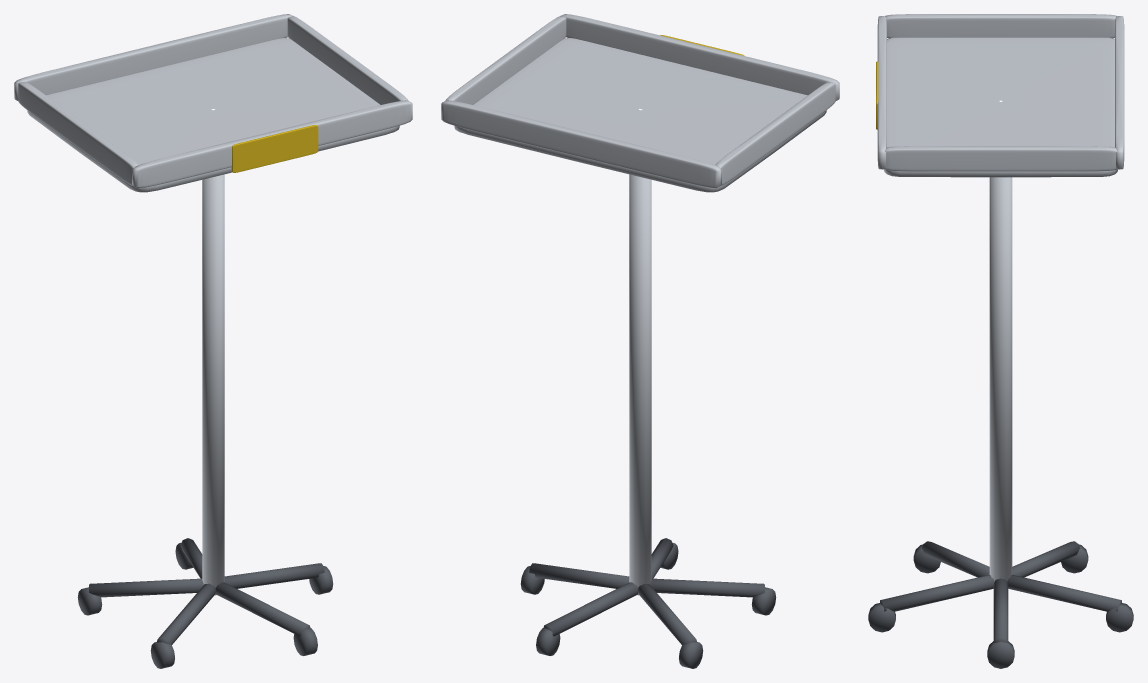
The model's file is delivery_tray.glb.
3 renders of one model, left to right at view 1: azimuth 30°, elevation 25°; view 2: azimuth 150°, elevation 25°; view 3: azimuth 270°, elevation 25°, orthographic.
Parts seen in each view (by area): view 1: Tray, Pole, Base, Tag; view 2: Tray, Pole, Base; view 3: Tray, Pole, Base.
Boxes of the visible parts, x1,y1,x2,y2 form: Tray: (14,14,412,192); Pole: (202,174,224,595); Base: (77,538,333,668); Tag: (231,125,318,172); Tray: (441,14,839,192); Pole: (629,174,651,595); Base: (520,538,776,668); Tray: (877,14,1124,177); Pole: (989,177,1012,581); Base: (868,541,1133,668).
Size of the model in its own units: 0.5189 by 0.94 by 0.4244.
